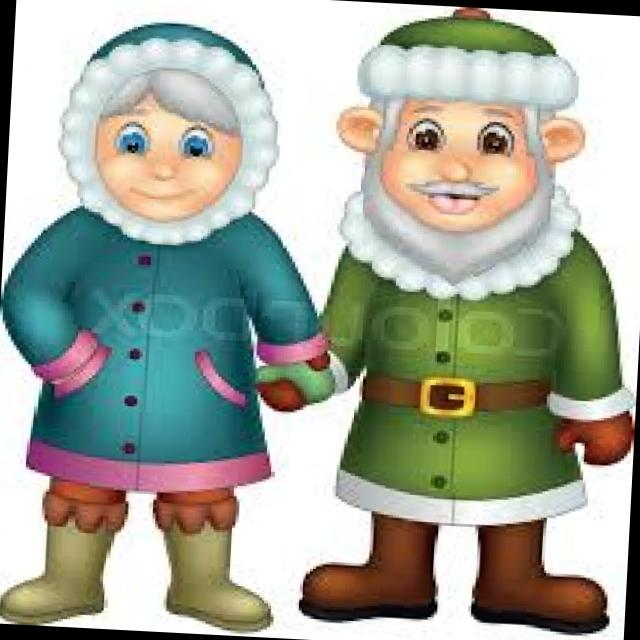Jacket: (277, 193, 554, 554), (0, 178, 268, 486)
